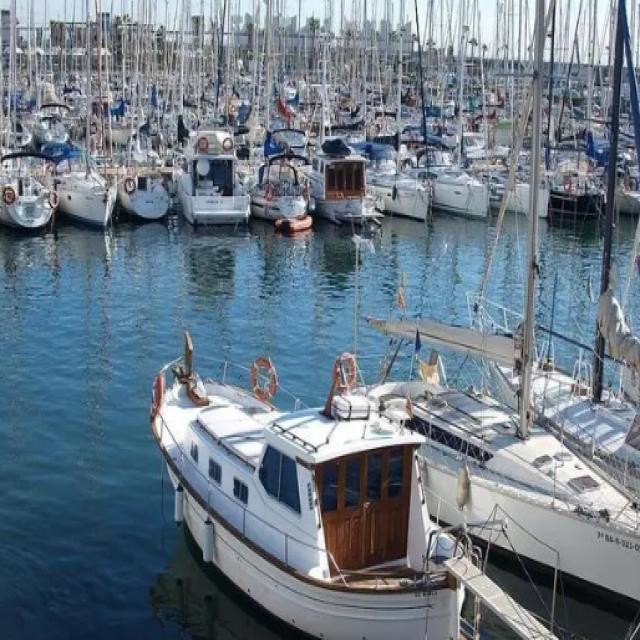houseboat: (143, 282, 502, 640), (341, 308, 640, 623)
